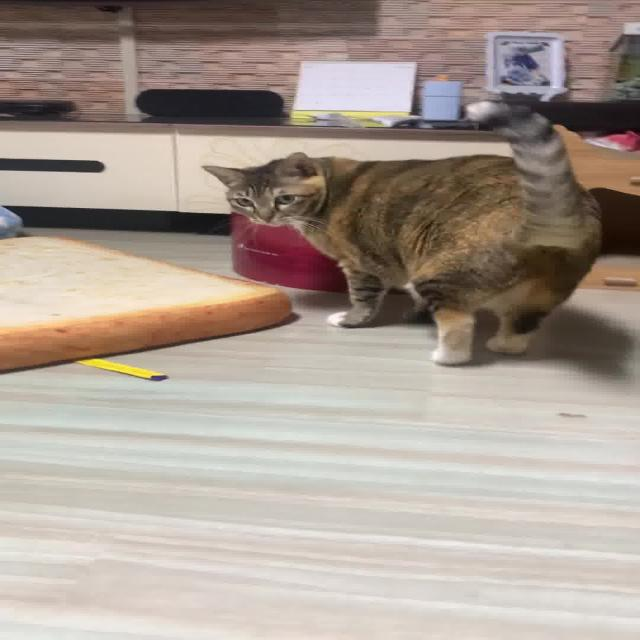cat: (199, 98, 604, 366)
